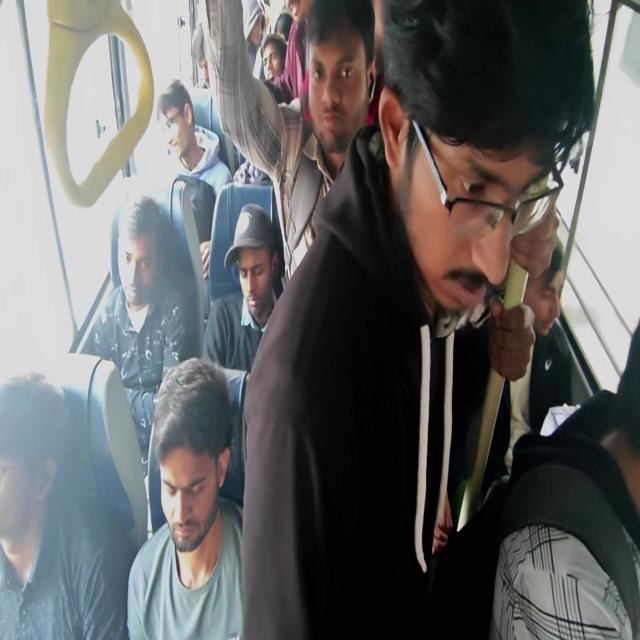person: (396, 31, 577, 351), (522, 401, 640, 639), (0, 377, 70, 608), (140, 386, 214, 543), (520, 161, 571, 362), (308, 17, 360, 149), (212, 226, 277, 325), (99, 209, 166, 304), (162, 119, 197, 174), (198, 27, 222, 93), (272, 44, 290, 106), (245, 13, 262, 50), (276, 17, 288, 49)
